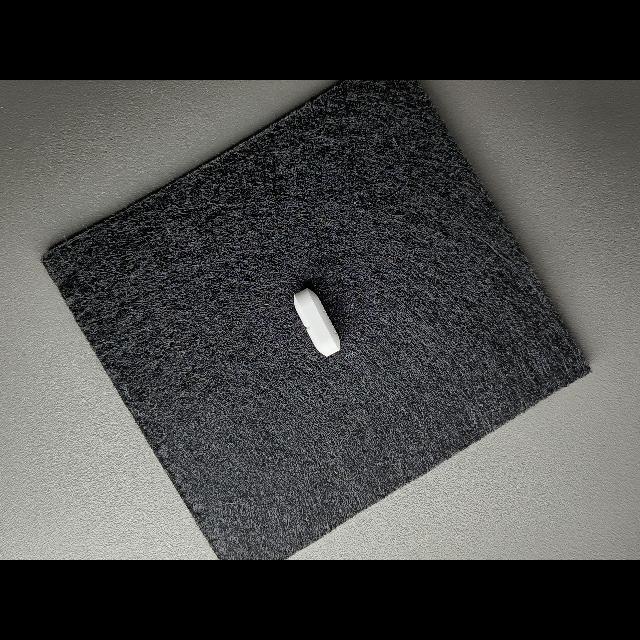Intact Pill: (294, 288, 340, 357)
